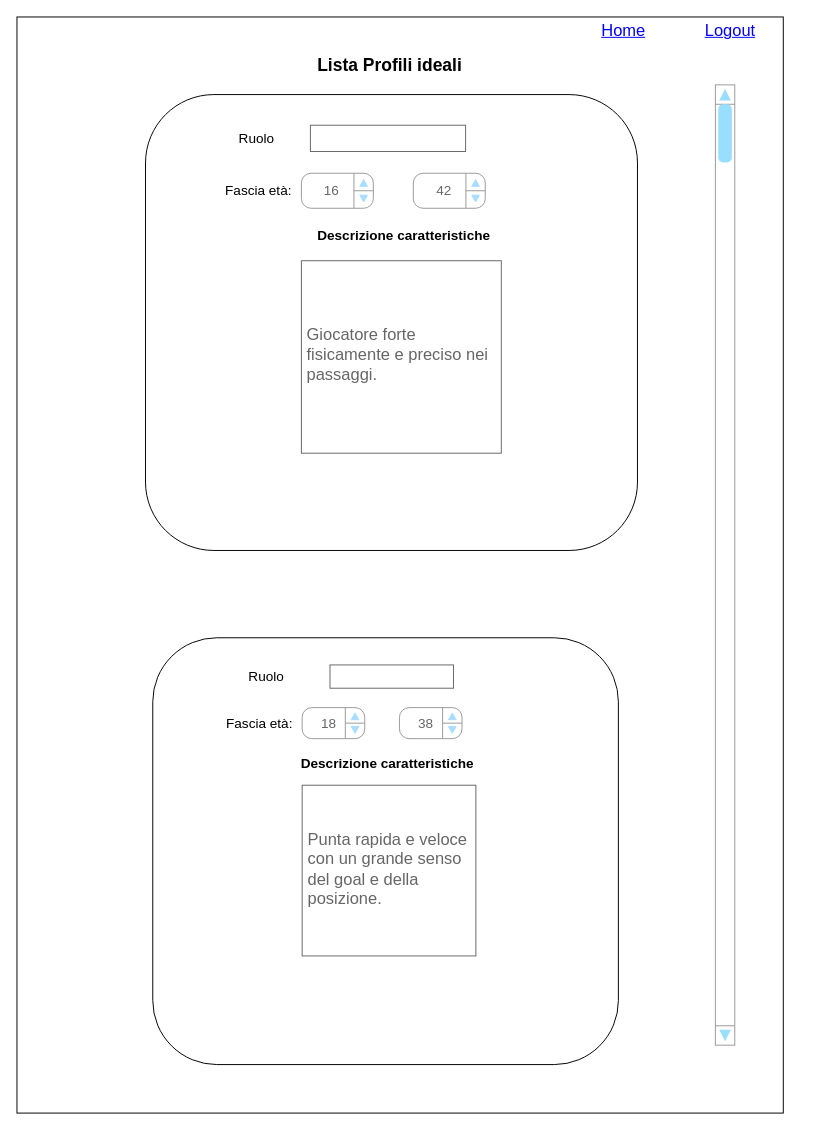
The diagram is 820 pixels wide and 1130 high, and some of its shapes have lost their labels. The shapes that lost their labels are listed below. From the top down, each one's box as (x1, y1, x2, y2) in pixels, then its label:
(309, 124, 466, 152): Difensore centrale
(329, 664, 453, 688): Punta centrale
